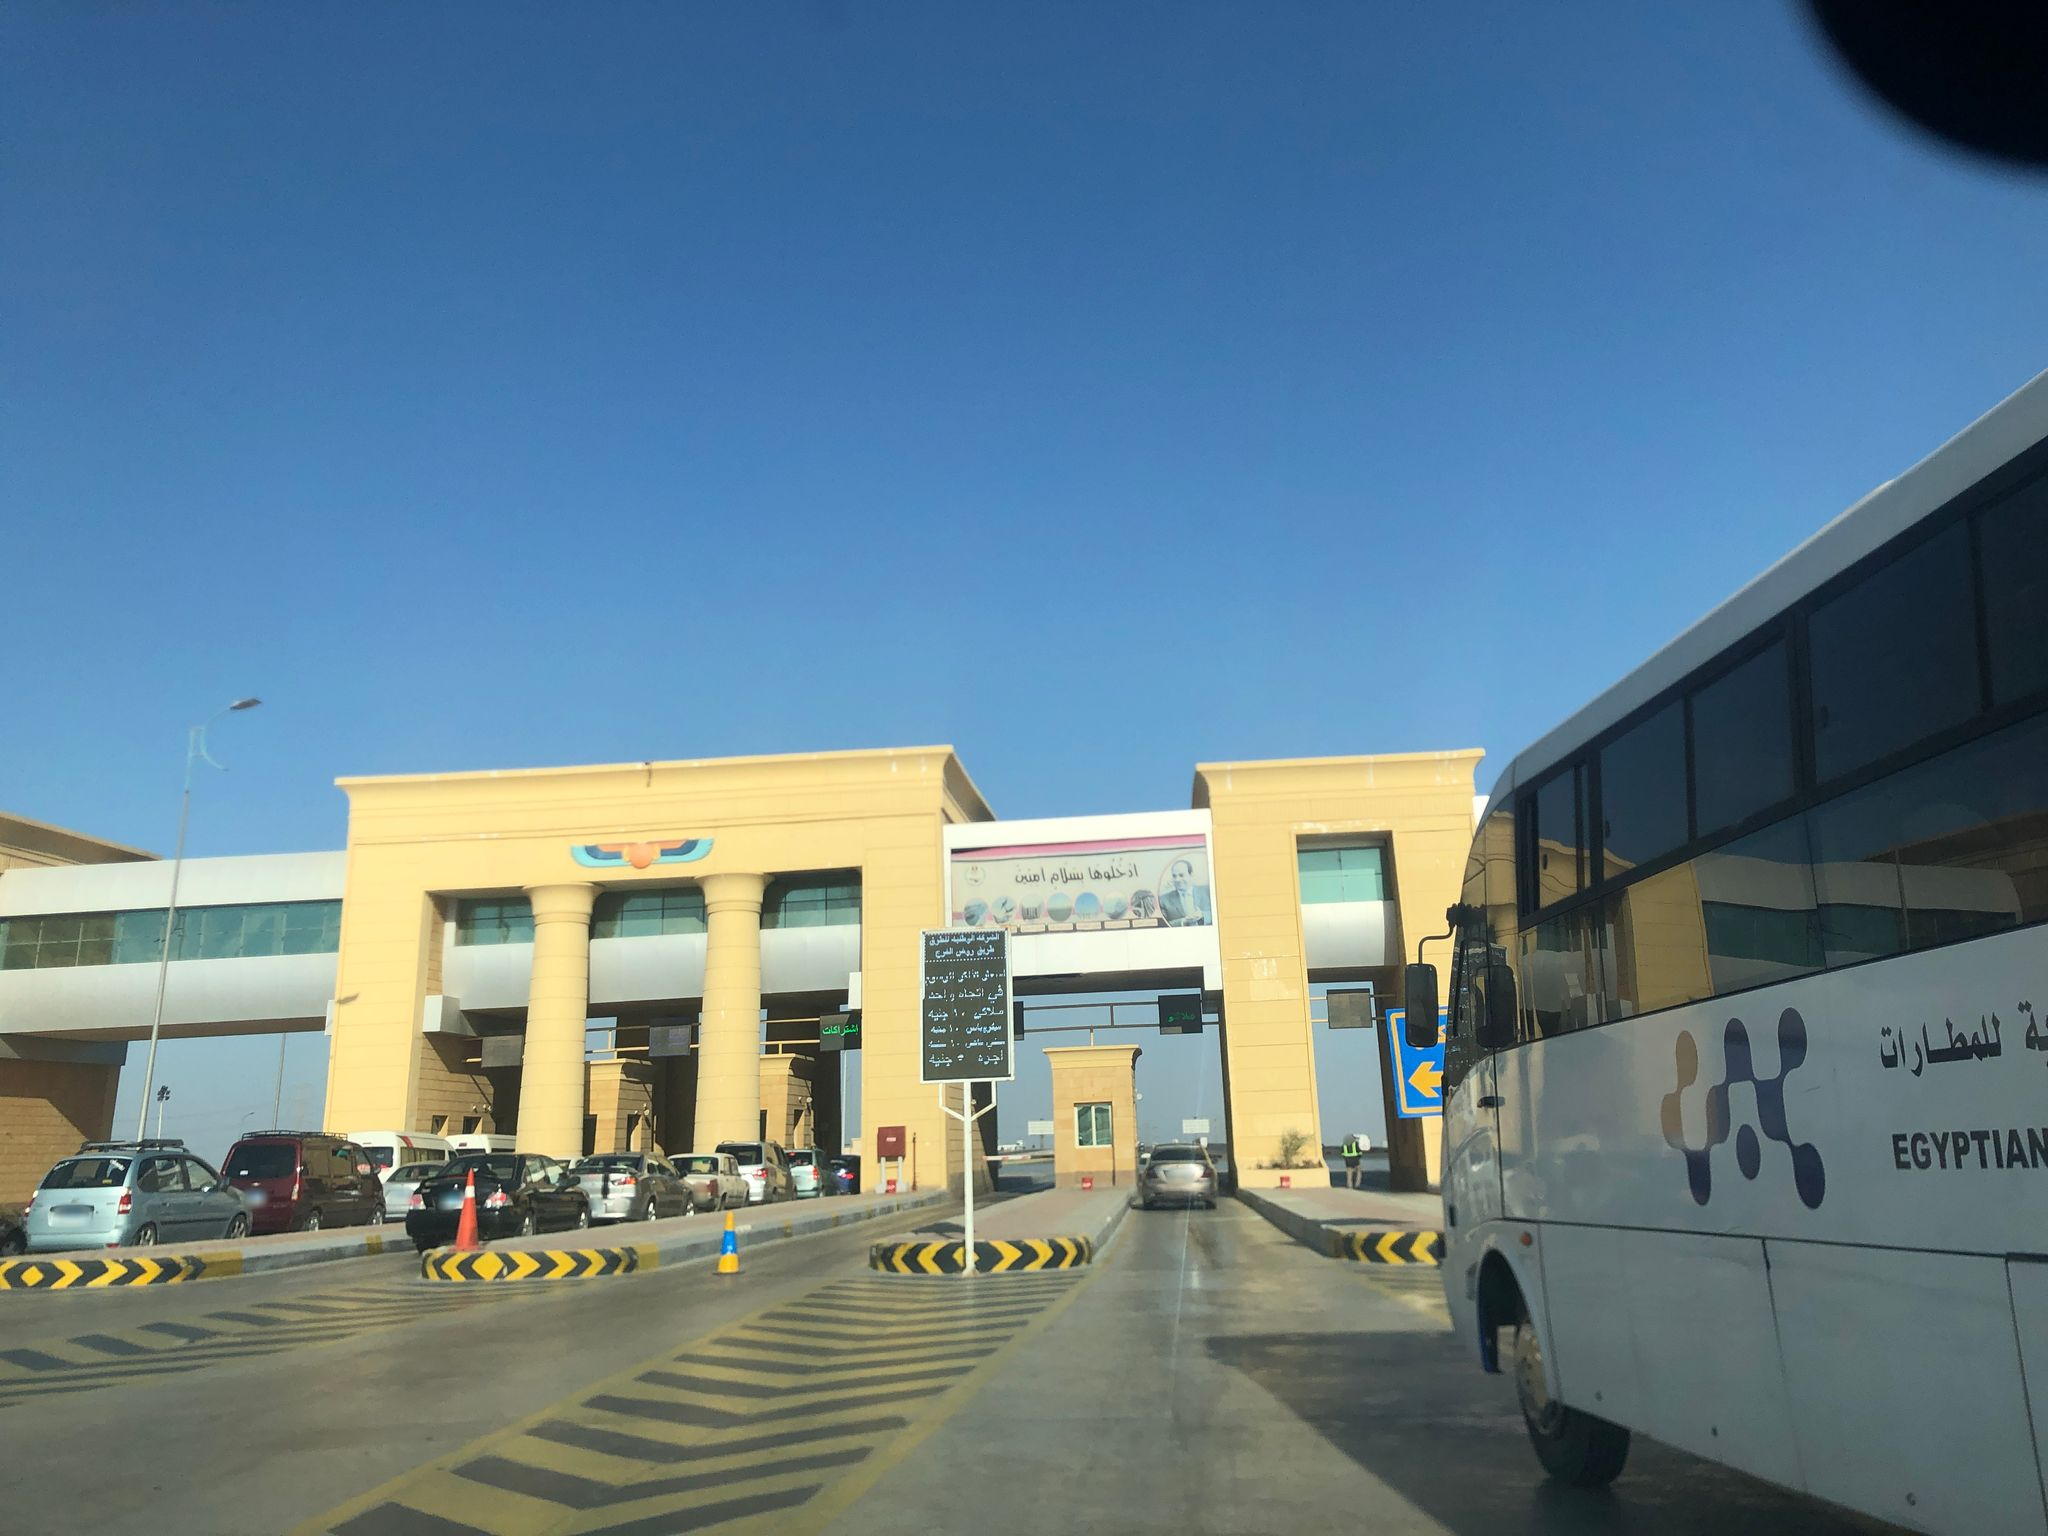bus: (1371, 376, 2046, 1536)
car: (15, 1137, 252, 1249), (405, 1149, 590, 1258), (219, 1131, 384, 1233), (548, 1149, 685, 1221), (340, 1129, 456, 1191), (651, 1150, 750, 1213), (713, 1139, 798, 1204), (1135, 1141, 1214, 1205), (376, 1160, 448, 1221), (784, 1147, 842, 1197), (824, 1152, 863, 1192)
